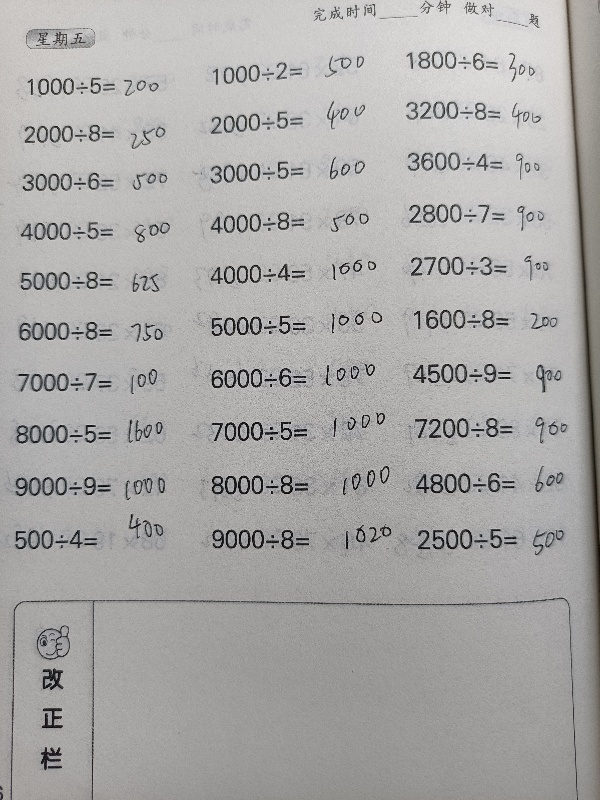equation: (397, 44, 577, 88), (395, 42, 575, 86), (191, 465, 393, 502), (204, 408, 385, 449), (204, 522, 384, 559), (409, 521, 589, 557), (7, 521, 187, 557), (400, 410, 580, 446), (7, 469, 187, 504), (406, 465, 586, 500), (8, 417, 188, 452), (202, 360, 382, 395), (404, 356, 584, 391), (405, 302, 585, 337), (201, 256, 381, 291), (401, 248, 581, 283), (397, 94, 577, 129), (8, 365, 188, 399), (9, 314, 189, 348), (202, 308, 382, 342), (12, 264, 192, 298), (201, 205, 381, 239), (401, 197, 581, 231), (202, 154, 382, 188), (399, 145, 579, 179), (19, 69, 199, 103), (12, 214, 192, 247), (13, 165, 193, 198), (15, 117, 195, 150), (202, 105, 382, 138), (203, 56, 383, 89)
